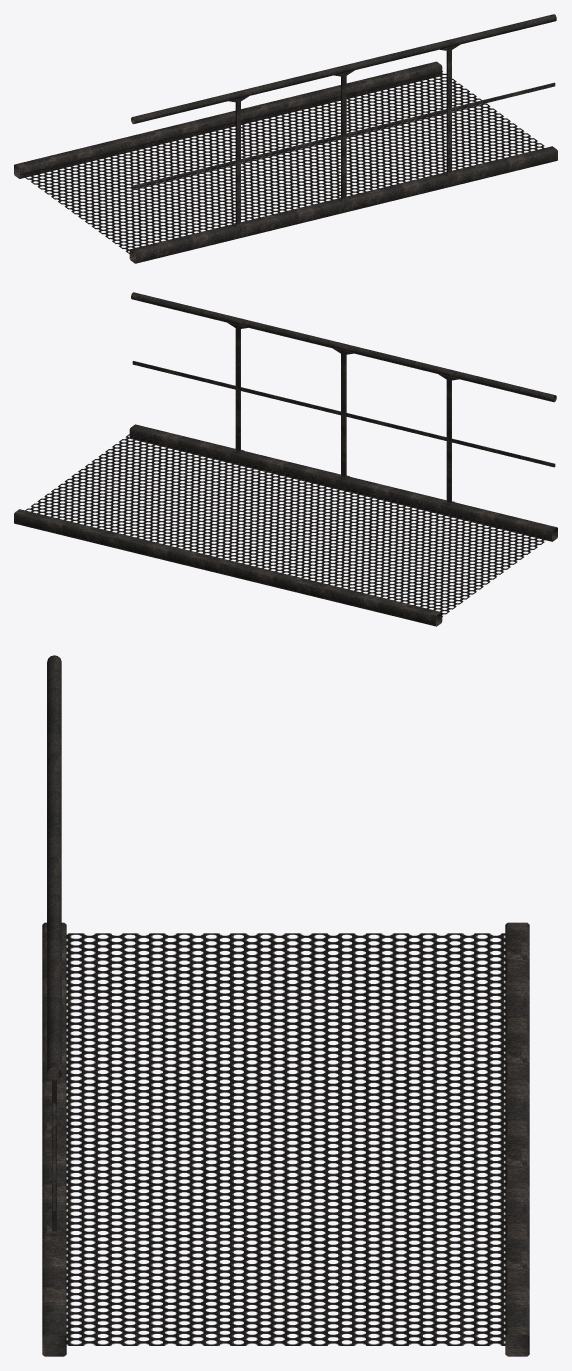
The model's file is catwalk_1.glb.
The picture shows the model from 3 angles, top to bottom: view 1: azimuth 30°, elevation 25°; view 2: azimuth 150°, elevation 25°; view 3: azimuth 270°, elevation 25°; orthographic projection. The views are drawn at different scales.
Parts seen in each view (by area): view 1: catwalk_1, handrail_4; view 2: catwalk_1, handrail_4; view 3: catwalk_1, handrail_4.
Part boxes in pixels (bbox=[...]): catwalk_1: bbox=[14, 61, 557, 263]; handrail_4: bbox=[131, 14, 556, 227]; catwalk_1: bbox=[14, 424, 557, 626]; handrail_4: bbox=[131, 292, 556, 505]; catwalk_1: bbox=[42, 922, 529, 1356]; handrail_4: bbox=[47, 655, 61, 1235].
Size of the model in its own units: 4 by 1.31 by 2.
Materials: 2 (2 with a texture image).
